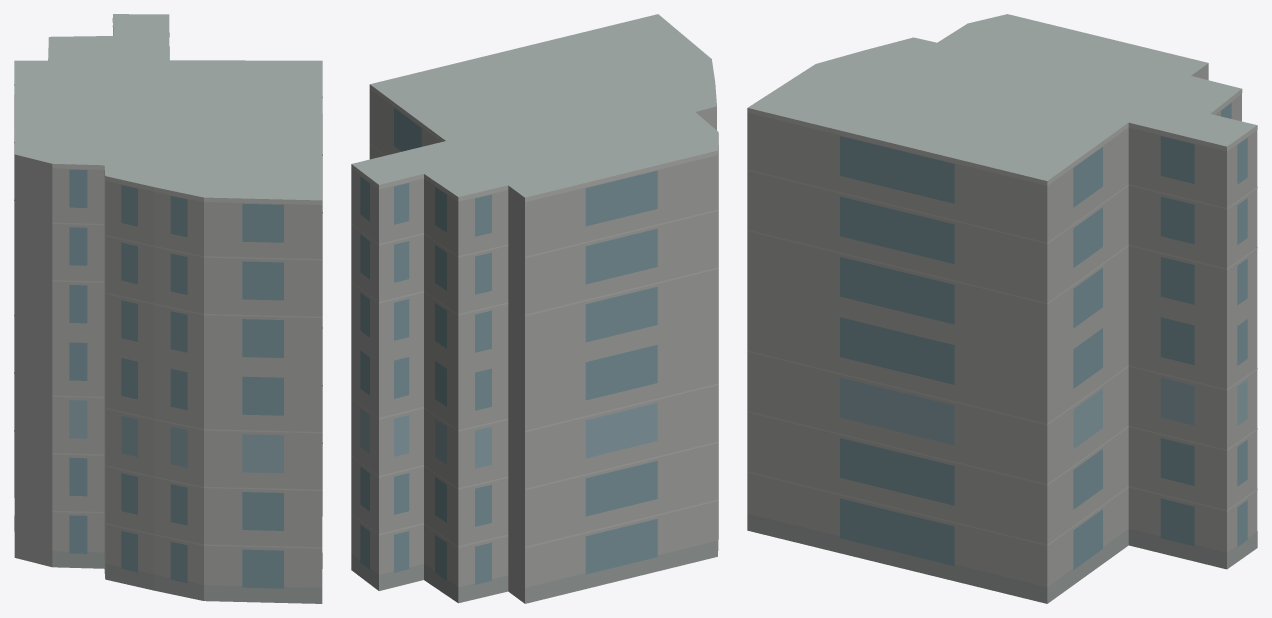
File: survey-upis-32746917.glb
3 renders of one model, left to right at view 1: azimuth 30°, elevation 25°; view 2: azimuth 150°, elevation 25°; view 3: azimuth 270°, elevation 25°, orthographic. The views are drawn at different scales.
Visible parts, largest first — view 1: survey-upis-32746917.tmp; view 2: survey-upis-32746917.tmp; view 3: survey-upis-32746917.tmp.
Part boxes in pixels (x1,y1,x2,y2): survey-upis-32746917.tmp: (14, 14, 322, 603); survey-upis-32746917.tmp: (351, 14, 718, 603); survey-upis-32746917.tmp: (747, 14, 1257, 603).
Bounding box in the file's own units: 18.13 × 21.35 × 23.37.
